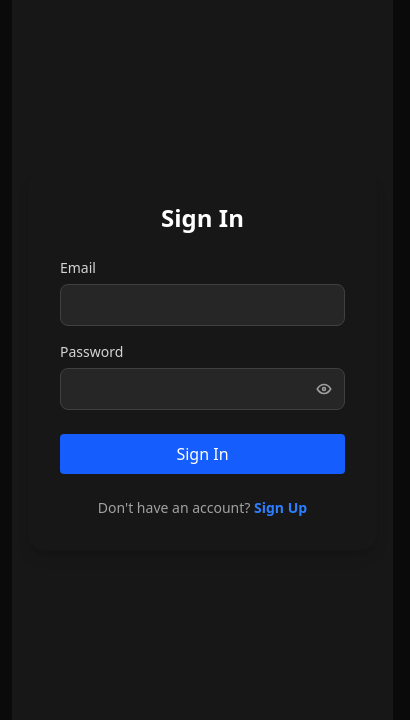
Test case: a failed signIn shows the mapped message and does not navigate (REQ-02 AC3)
This screenshot has width=410, height=720.
Type "coach@club.pt" into the field labelled "Email".
click(202, 305); type("coach@club.pt")  # box [60,284,345,326]
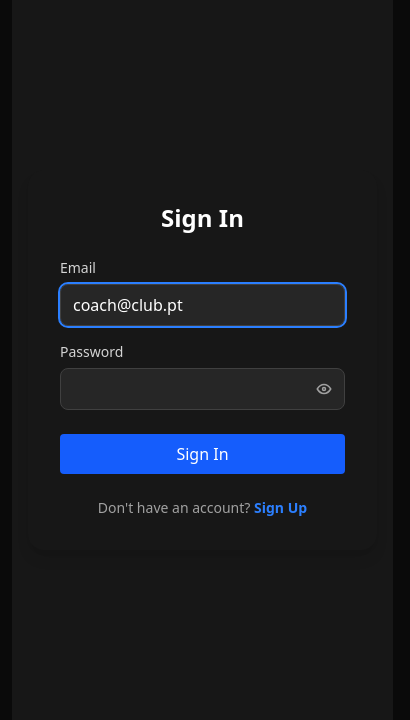
Type "wrong" into the password field labelled "Password".
click(202, 389); type("wrong")  # box [60,368,345,410]
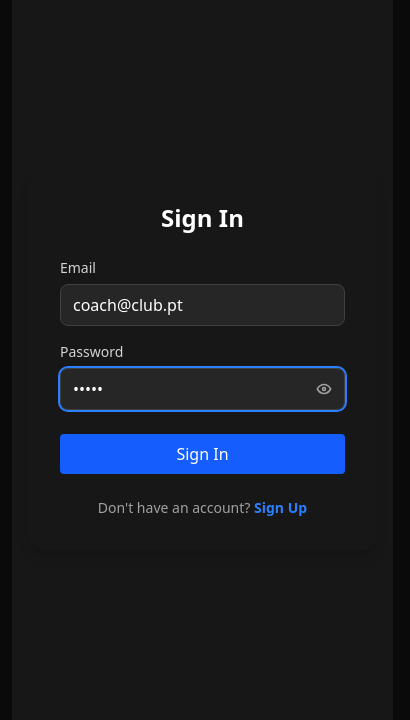
Click the button "Sign In".
click(202, 454)  # box [60,434,345,474]
(page scrolled)
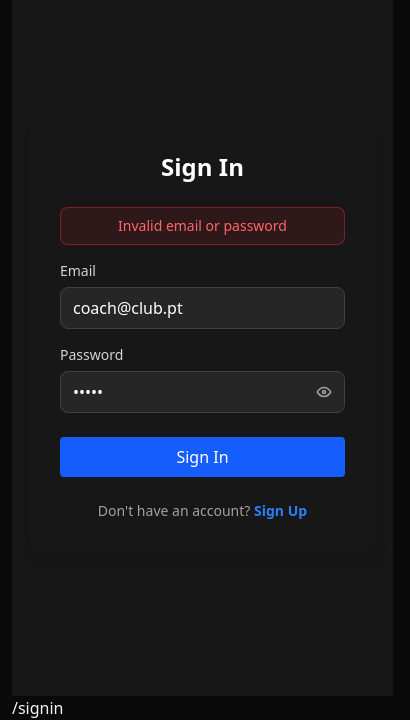
Expected: the text with test id "location" reads "/signin", [12,697,64,719]
Now the message reads "Invalid email or password", box [118,216,287,235]
